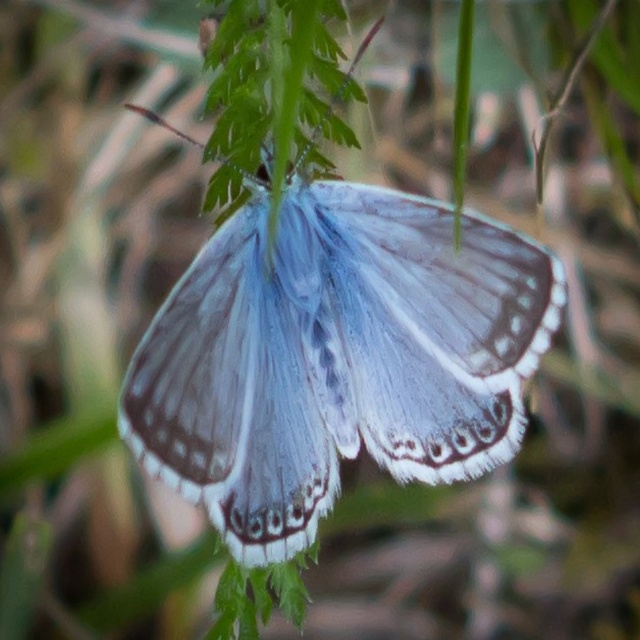Butterfly: (119, 13, 569, 569)
